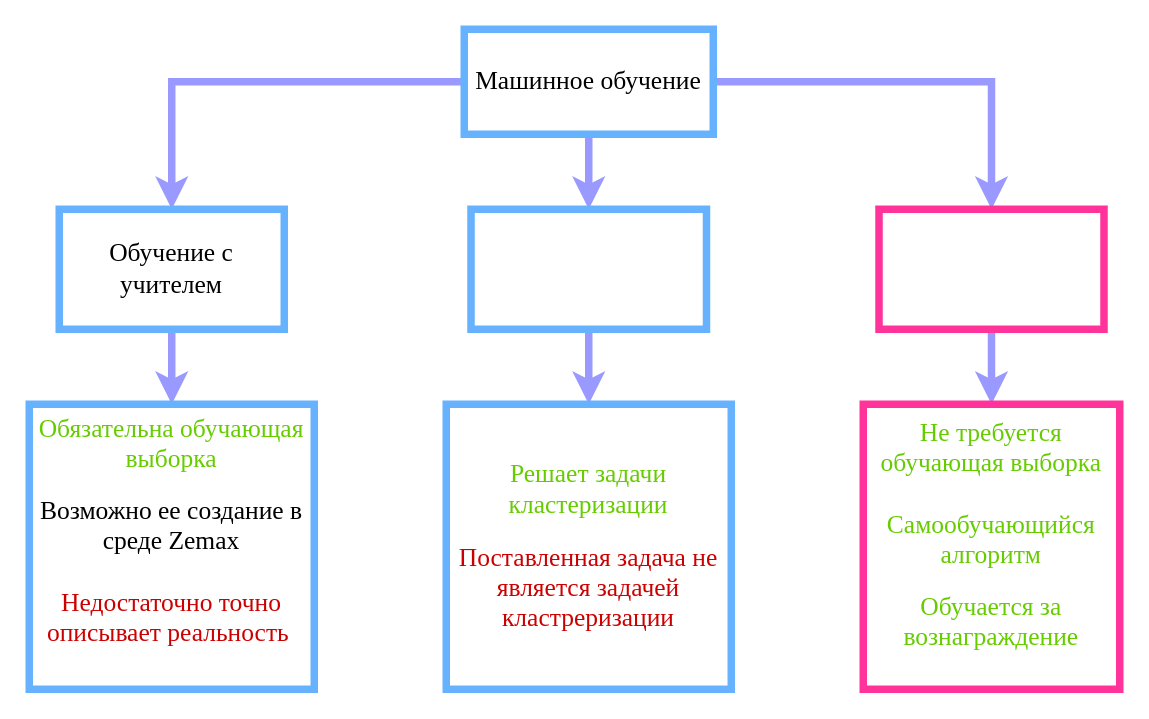
This 1149x719 diagram has some shape labels left out. Here are the shapes that lost their labels. From the top down, the box of each, then its label:
(466, 205, 710, 332): Обучение без учителя
(874, 205, 1107, 332): Обучение с подкреплением
